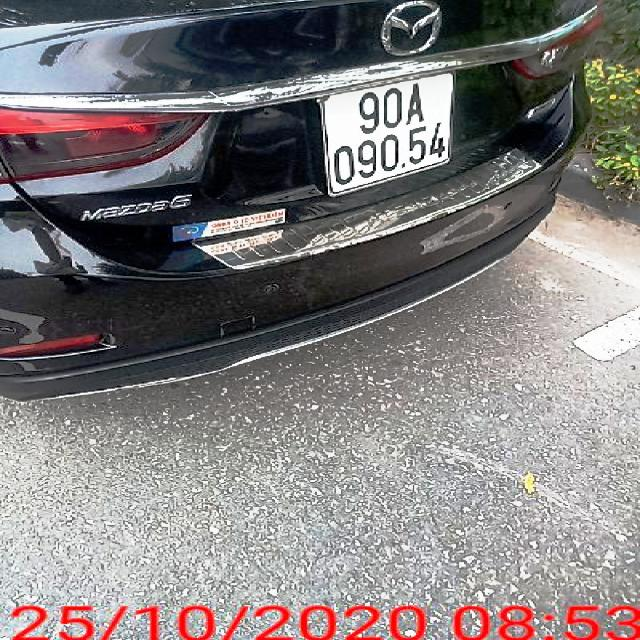license_plate: (319, 74, 459, 195)
